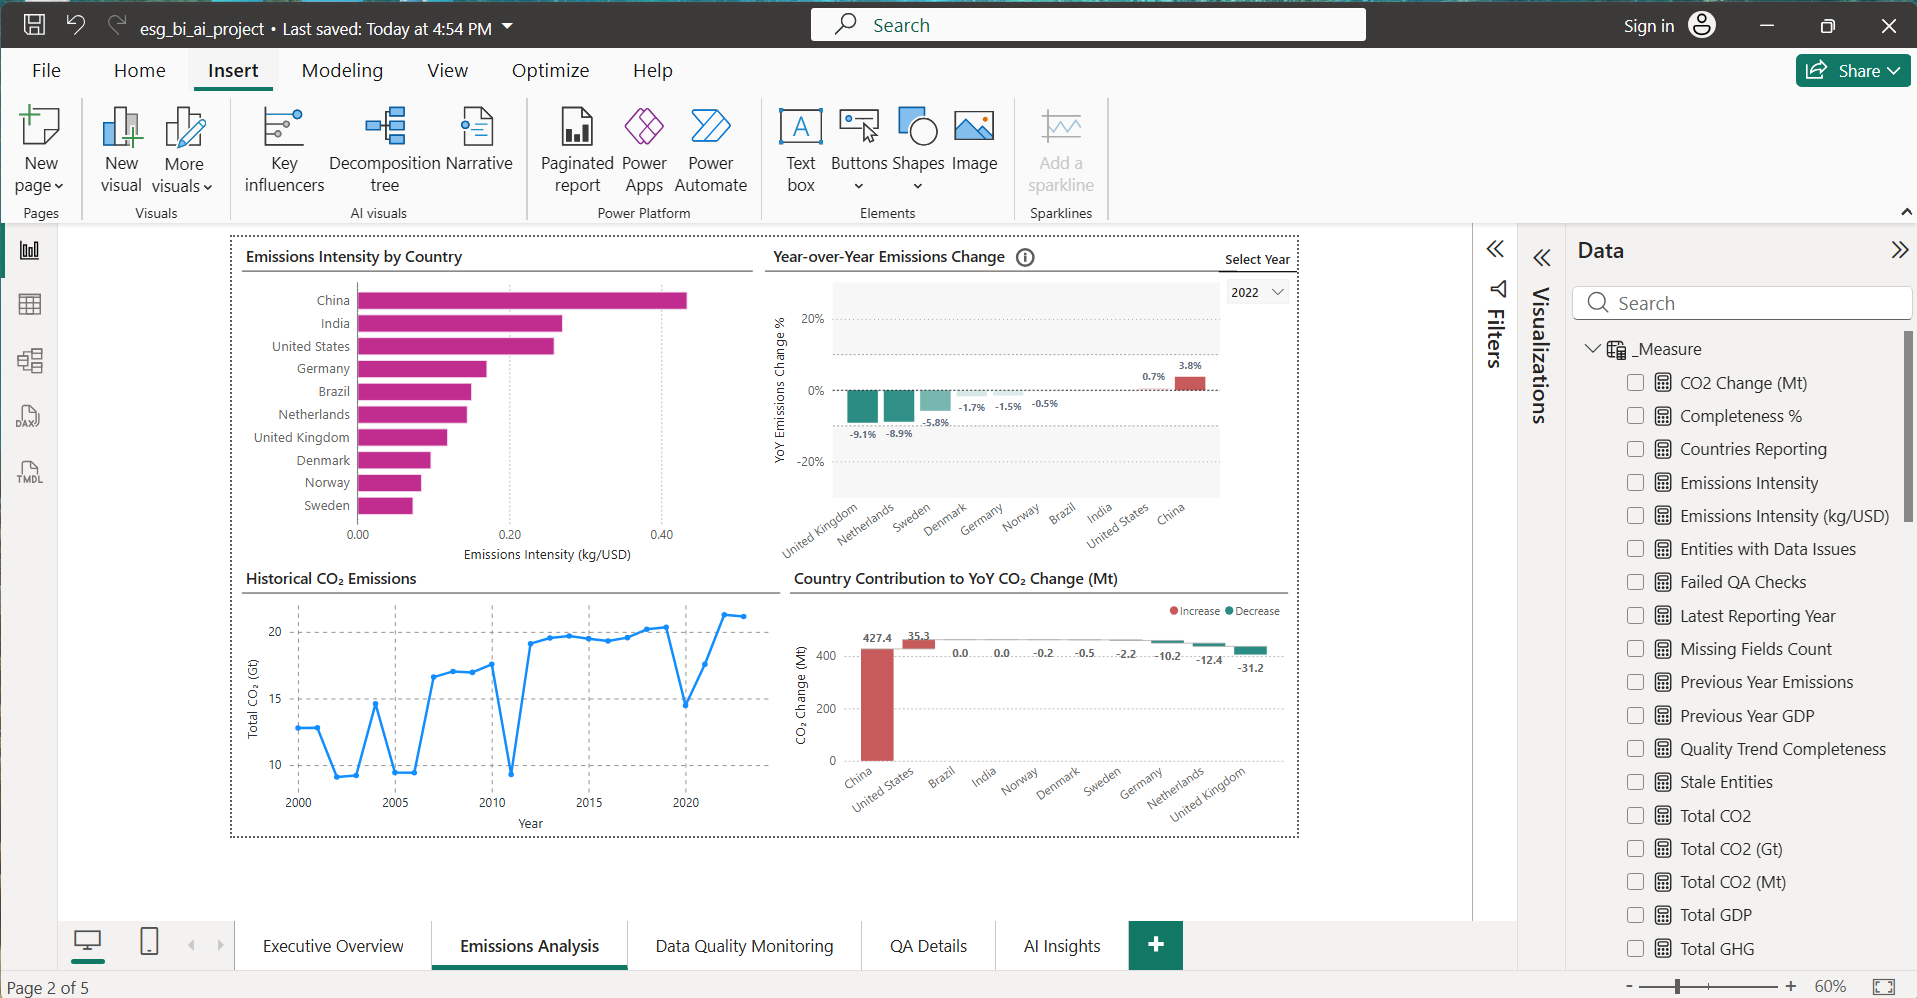

What the dashboard file says about the page in this screenshot:
{"tool":"powerbi","page":{"name":"Emissions Analysis","canvas":[1280,720],"ordinal":1},"visuals":[{"type":"barChart","title":"Emissions Intensity by Country","fields":{"Category":["DIM_ENTITY.entity_name"],"Y":["_Measure.Emissions Intensity (kg/USD)"]},"box":[11.4,10,614.3,387.1],"z":0},{"type":"columnChart","title":"Year-over-Year Emissions Change","fields":{"Category":["DIM_ENTITY.entity_name"],"Y":["_Measure.YoY Emissions Change %"]},"box":[640,10,567.1,392.9],"z":1000},{"type":"waterfallChart","title":"Country Contribution to YoY CO₂ Change (Mt)","fields":{"Category":["DIM_ENTITY.entity_name"],"Y":["_Measure.CO2 Change (Mt)"]},"box":[670,397.1,598.6,322.9],"z":2000},{"type":"actionButton","box":[917.1,0,100,40],"z":3000},{"type":"slicer","title":"Select Year","fields":{"Values":["DIM_DATE.year"]},"box":[1185.7,14.3,94.3,98.6],"z":4000},{"type":"lineChart","title":"Historical CO₂ Emissions","fields":{"Category":["DIM_DATE.year"],"Y":["_Measure.Total CO2 (Gt)"]},"box":[11.4,397.1,647.1,322.9],"z":5000}]}

Visuals, with their boxes on the page's 1280x720 design canvas (x1, y1, x2, y2). These are canvas units, not pixel positions in the 1917x998 screenshot, which may show the page scaled, cropped or inside an application window:
"Emissions Intensity by Country" barChart: 11:10:626:397
"Year-over-Year Emissions Change" columnChart: 640:10:1207:403
"Country Contribution to YoY CO₂ Change (Mt)" waterfallChart: 670:397:1269:720
actionButton: 917:0:1017:40
"Select Year" slicer: 1186:14:1280:113
"Historical CO₂ Emissions" lineChart: 11:397:658:720
